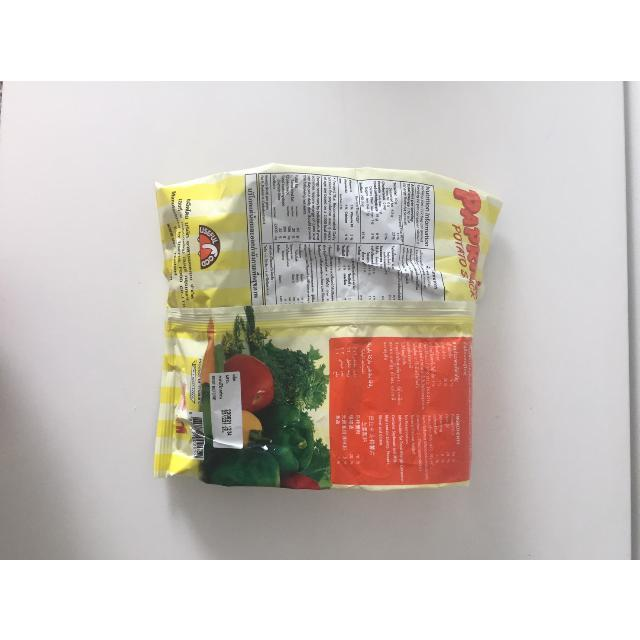Bolsa-de-plastico: (152, 173, 500, 502)
